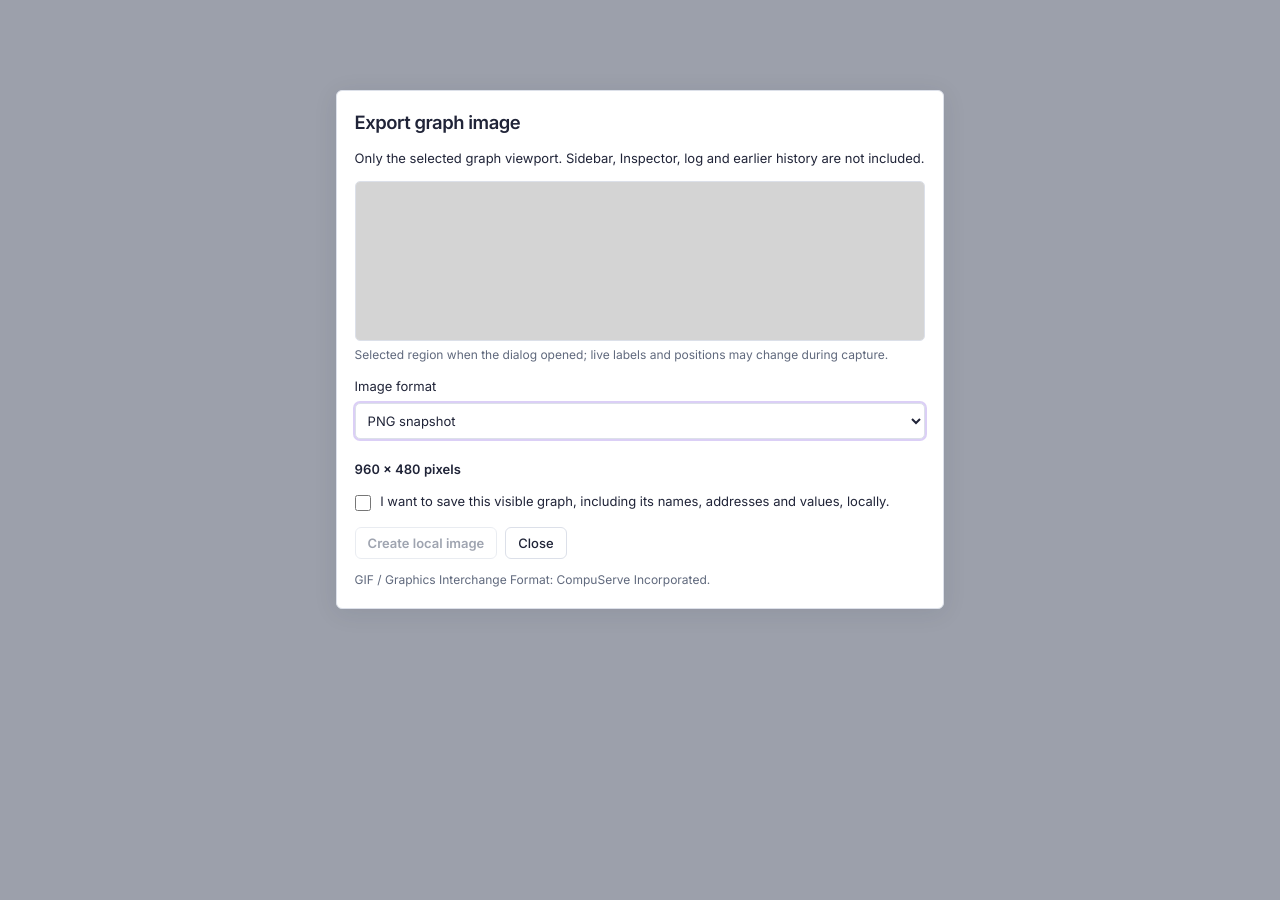
Test case: refuses a late old-source image after the view/session source is replaced
Step 1. Click the checkbox → (363, 503), box [355, 495, 371, 511]
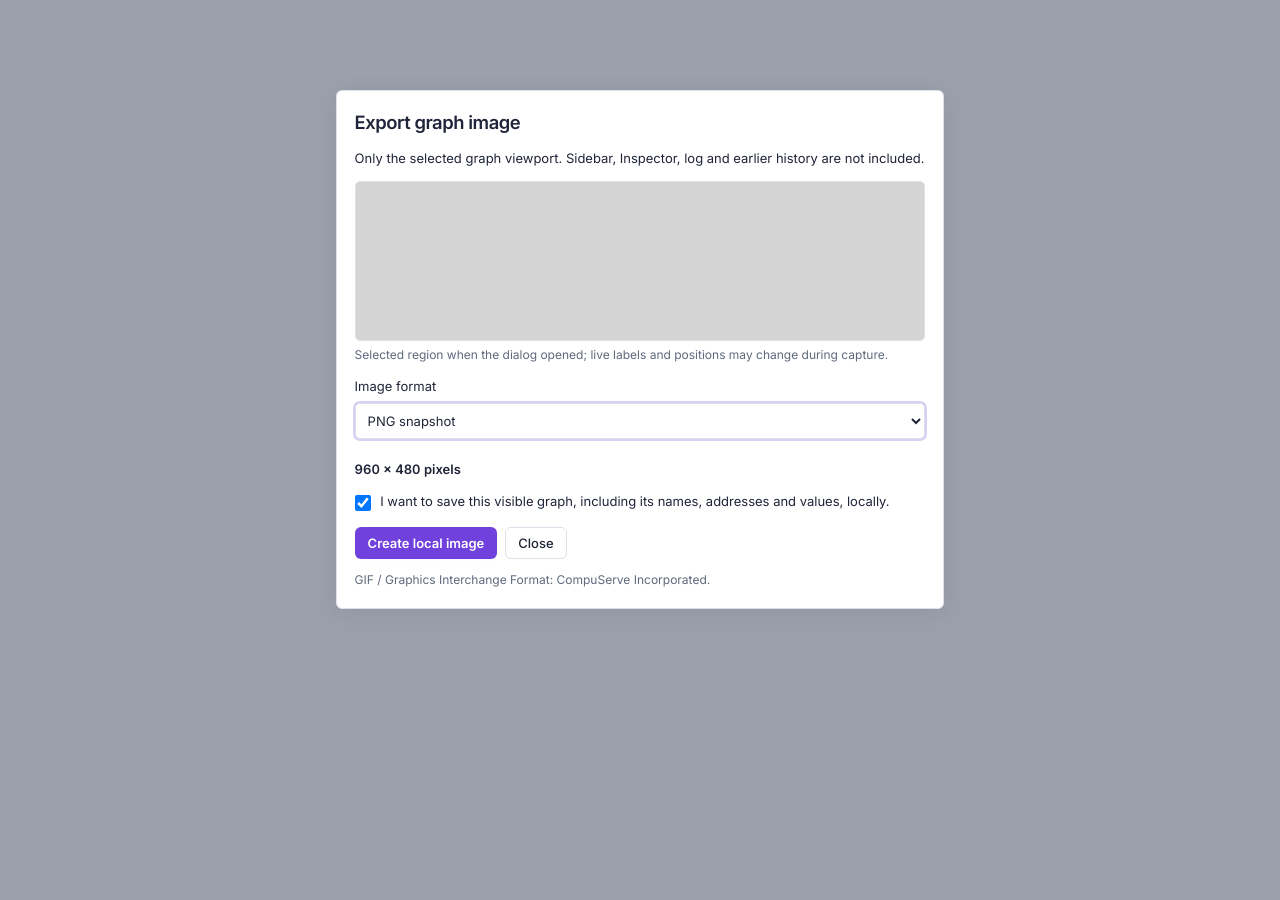
Step 2. Click the button "Create local image" → (426, 543), box [355, 527, 497, 559]
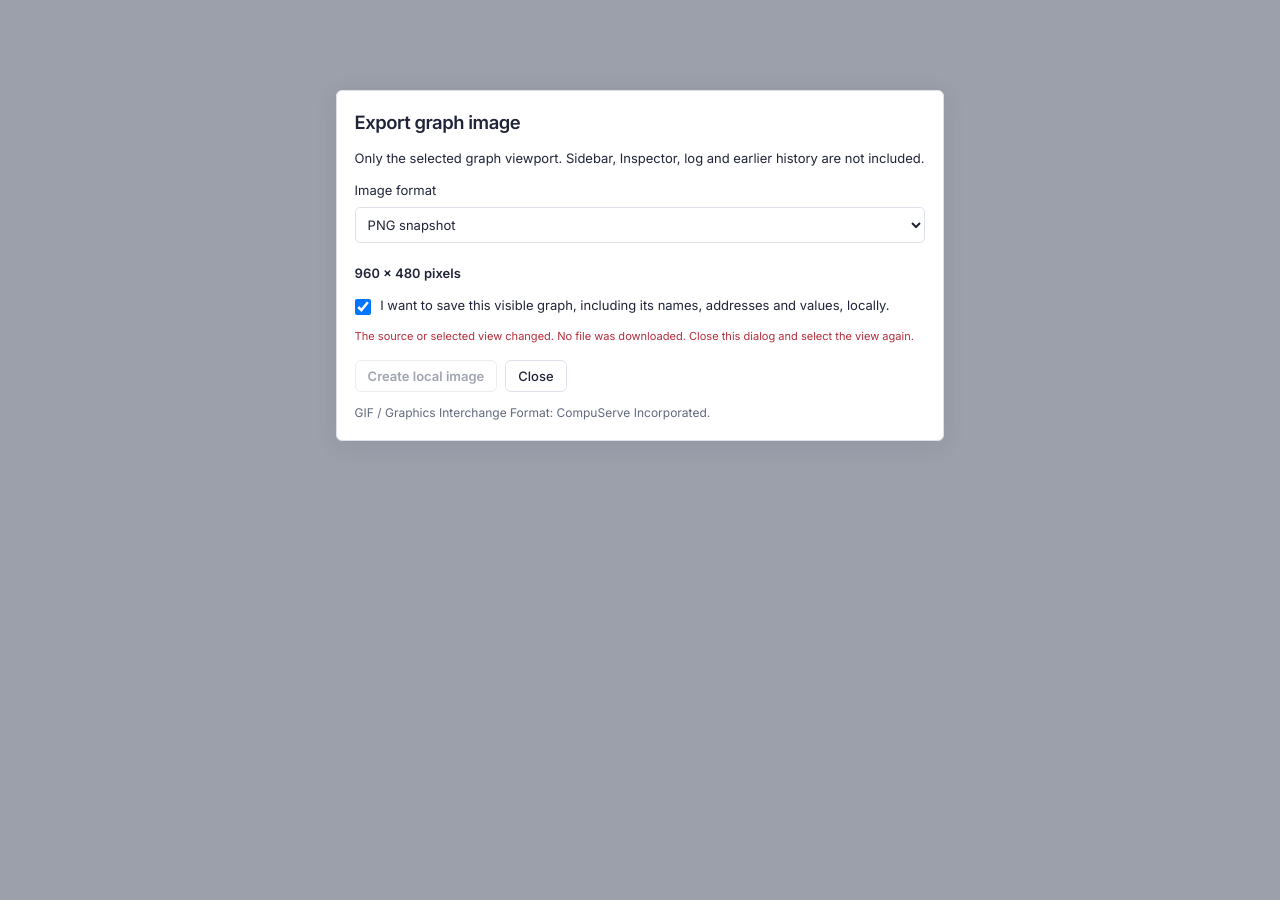
Now the message shows "source", box [355, 329, 914, 343]
Now the button "Create local image" is disabled, box [355, 360, 497, 392]
